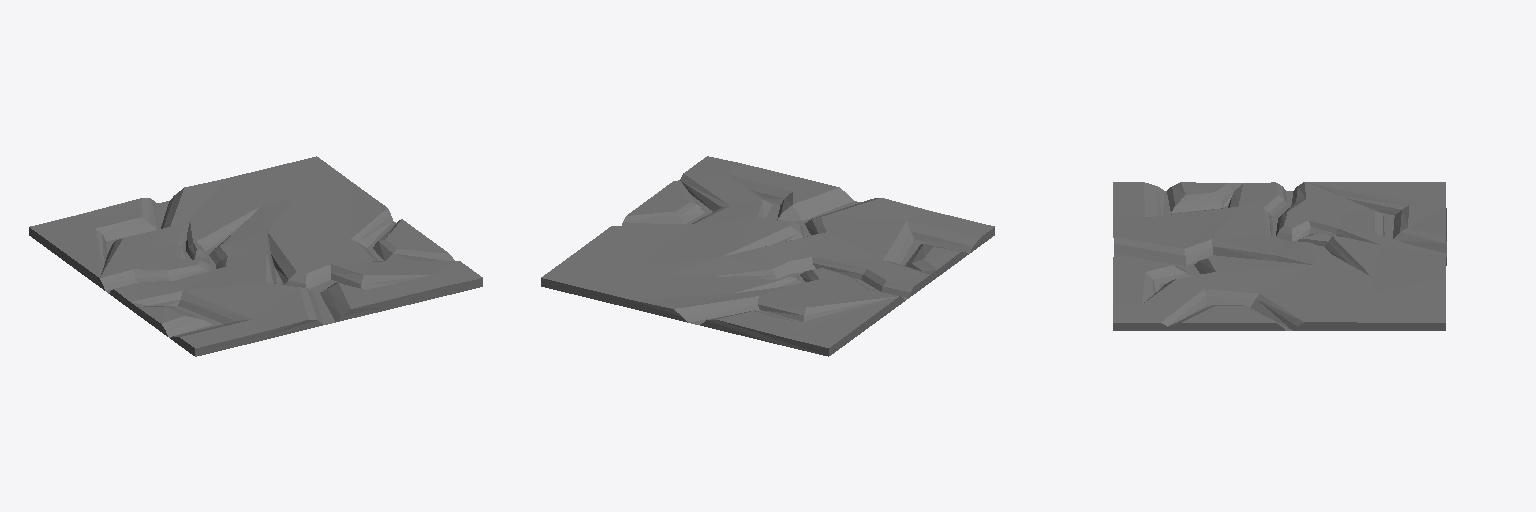
The model's file is Asphault.obj.
The picture shows the model from 3 angles: view 1: azimuth 30°, elevation 25°; view 2: azimuth 150°, elevation 25°; view 3: azimuth 270°, elevation 25°; orthographic projection.
Parts seen in each view (by area): view 1: pPlane4; view 2: pPlane4; view 3: pPlane4.
Boxes of the visible parts, x1=… form: pPlane4: x1=29, y1=156, x2=482, y2=356; pPlane4: x1=541, y1=156, x2=994, y2=356; pPlane4: x1=1113, y1=182, x2=1446, y2=330.
Bounding box in the file's own units: 6 × 0.1947 × 6.01.